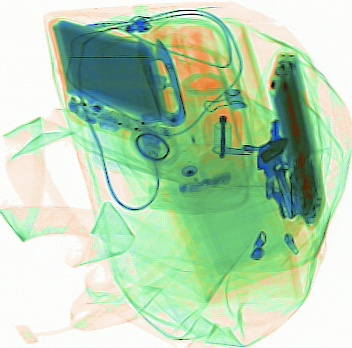powerbank: (262, 46, 328, 230)
scissors: (134, 35, 187, 127)
